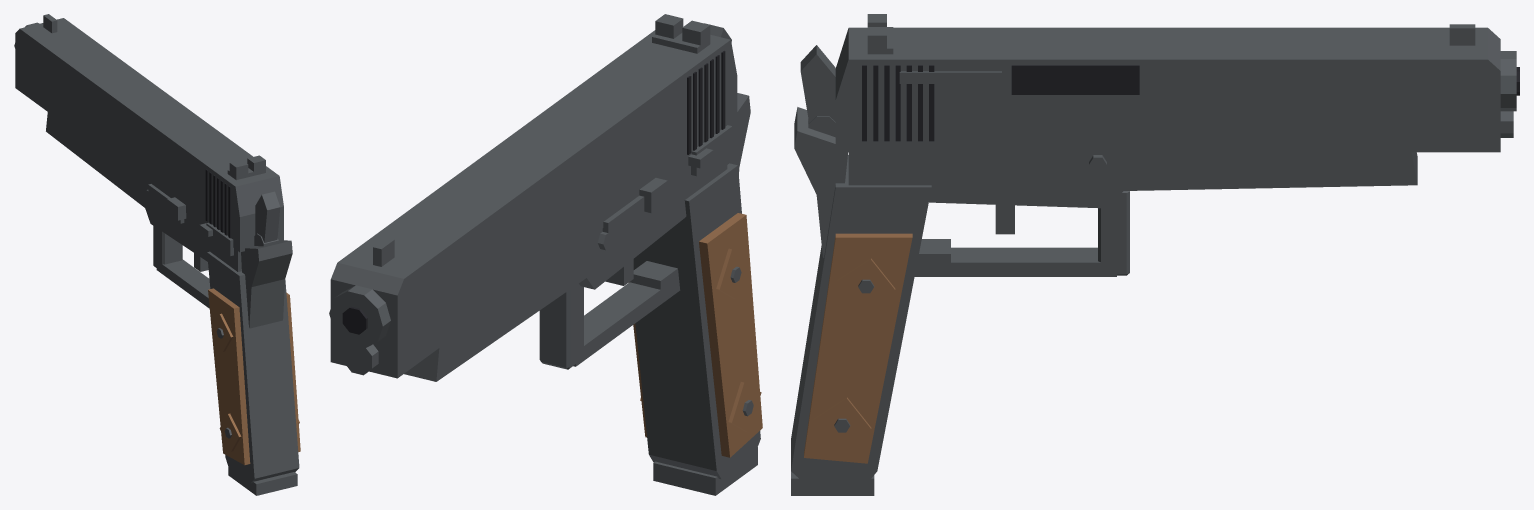
3 renders of one model, left to right at view 1: azimuth 30°, elevation 25°; view 2: azimuth 150°, elevation 25°; view 3: azimuth 270°, elevation 25°, orthographic. The views are drawn at different scales.
Visible parts, largest first — view 1: slide, body, hammer, magazine, slideStop; view 2: slide, body, slideStop, magazine; view 3: slide, body, hammer, magazine.
Boxes of the visible parts, <box> form: slide: <box>14,14,283,252</box>; body: <box>46,112,300,483</box>; hammer: <box>254,191,280,246</box>; magazine: <box>228,467,297,495</box>; slideStop: <box>145,184,186,223</box>; slide: <box>329,14,737,378</box>; body: <box>404,93,762,479</box>; slideStop: <box>598,178,667,250</box>; magazine: <box>653,447,757,495</box>; slide: <box>835,14,1519,152</box>; body: <box>791,107,1417,482</box>; hammer: <box>800,45,835,137</box>; magazine: <box>791,471,874,495</box>.
Size of the model in its own units: 0.0346 by 0.1575 by 0.228.
